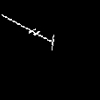treble_crochet: (2, 15, 53, 44)
